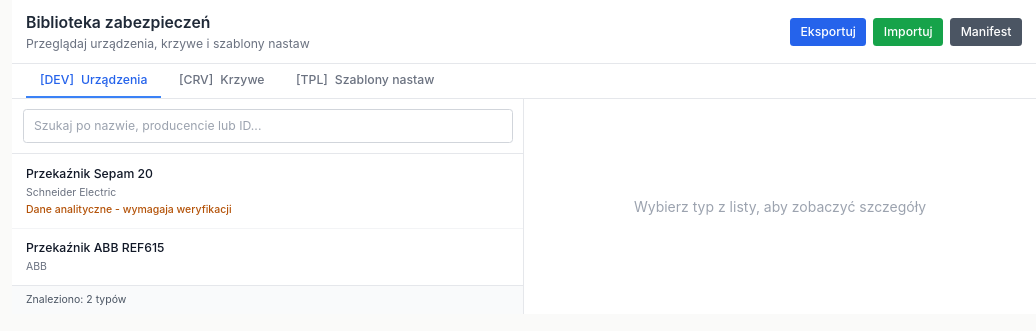
Test: ProtectionLibraryBrowser › switches to curves tab
Check: the text "Przekaźnik Sepam 20" is shown, box [26,166,153,180]
Note: Click curves tab
Click the text "Krzywe": x=242, y=80 [220,71,264,88]
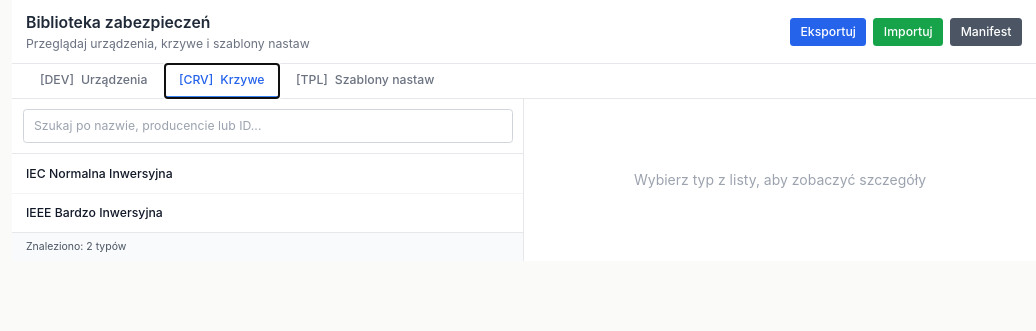
Check: the text "IEC Normalna Inwersyjna" is shown, box [26,166,173,180]
Check: the text "IEEE Bardzo Inwersyjna" is shown, box [26,205,163,220]
